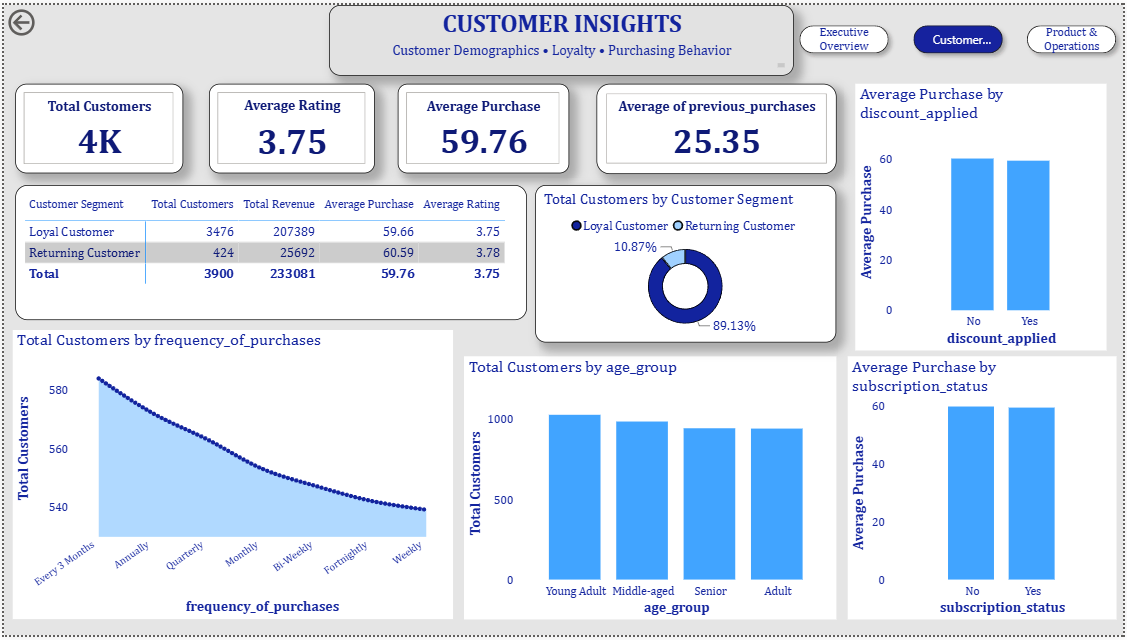

This screenshot's page, from the dashboard's own definition file:
{"tool":"powerbi","page":{"name":"Customer Insights","canvas":[1280,720],"ordinal":1},"visuals":[{"type":"textbox","title":"CUSTOMER INSIGHTS","box":[371,0,531,81],"z":0},{"type":"cardVisual","fields":{"Data":["Measures (2).Total Customers"]},"box":[12.9,90,192,102.7],"z":1000},{"type":"cardVisual","fields":{"Data":["Measures (2).Average Rating"]},"box":[234.3,90,189.5,102.7],"z":2000},{"type":"cardVisual","fields":{"Data":["Measures (2).Average Purchase"]},"box":[450,90,195.7,102.7],"z":3000},{"type":"cardVisual","fields":{"Data":["Avg(public customer.previous_purchases)"]},"box":[677.1,90,274.3,102.9],"z":4000},{"type":"clusteredColumnChart","fields":{"Category":["public customer.age_group"],"Y":["Measures (2).Total Customers"]},"box":[525.8,401.1,425.5,300.8],"z":5000},{"type":"donutChart","fields":{"Category":["public customer.Customer Segment"],"Y":["Measures (2).Total Customers"]},"box":[607.7,205.4,343.6,179.8],"z":6000},{"type":"areaChart","fields":{"Category":["public customer.frequency_of_purchases"],"Y":["Measures (2).Total Customers"]},"box":[10,371.4,502.9,330],"z":7000},{"type":"clusteredColumnChart","fields":{"Y":["Measures (2).Average Purchase"],"Category":["public customer.subscription_status"]},"box":[963.6,401.1,306.9,300.8],"z":8000},{"type":"clusteredColumnChart","fields":{"Category":["public customer.discount_applied"],"Y":["Measures (2).Average Purchase"]},"box":[973.4,90.5,287.4,304.5],"z":9000},{"type":"pivotTable","fields":{"Rows":["public customer.Customer Segment"],"Values":["Measures (2).Total Customers","Measures (2).Total Revenue","Measures (2).Average Purchase","Measures (2).Average Rating"]},"box":[13.5,205.4,584.5,154.1],"z":10000},{"type":"actionButton","box":[0,0,100,40],"z":11000},{"type":"pageNavigator","box":[900,14.7,380.3,50.1],"z":12000}]}

Visuals, with their boxes in screenshot pixels (x1, y1, x2, y2), scaled from the page's 1280x720 canvas onto the 1127x640 screenshot:
"CUSTOMER INSIGHTS" textbox: locate(327, 0, 794, 72)
cardVisual - Measures (2).Total Customers: locate(11, 80, 180, 171)
cardVisual - Measures (2).Average Rating: locate(206, 80, 373, 171)
cardVisual - Measures (2).Average Purchase: locate(396, 80, 569, 171)
cardVisual - Avg(public customer.previous_purchases): locate(596, 80, 838, 171)
clusteredColumnChart - public customer.age_group x Measures (2).Total Customers: locate(463, 357, 838, 624)
donutChart - public customer.Customer Segment x Measures (2).Total Customers: locate(535, 183, 838, 342)
areaChart - public customer.frequency_of_purchases x Measures (2).Total Customers: locate(9, 330, 452, 623)
clusteredColumnChart - Measures (2).Average Purchase x public customer.subscription_status: locate(848, 357, 1119, 624)
clusteredColumnChart - public customer.discount_applied x Measures (2).Average Purchase: locate(857, 80, 1110, 351)
pivotTable - public customer.Customer Segment x Measures (2).Total Customers: locate(12, 183, 527, 320)
actionButton: locate(0, 0, 88, 36)
pageNavigator: locate(792, 13, 1126, 58)
